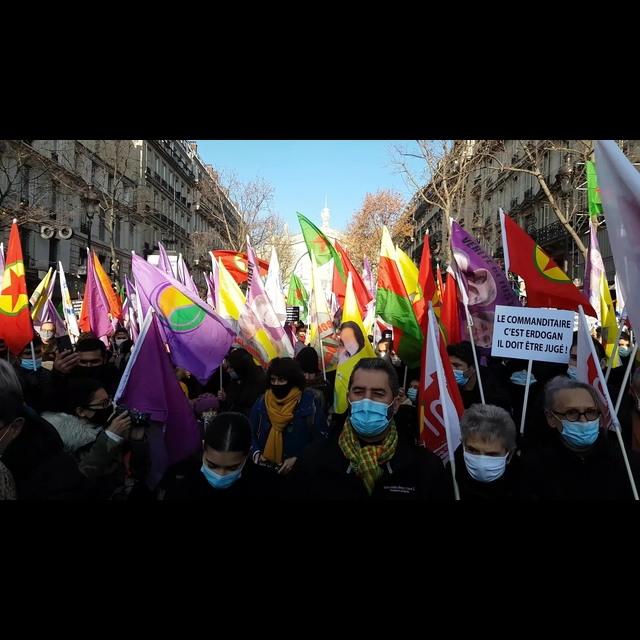PKK: (2, 216, 35, 356), (526, 232, 577, 290)
